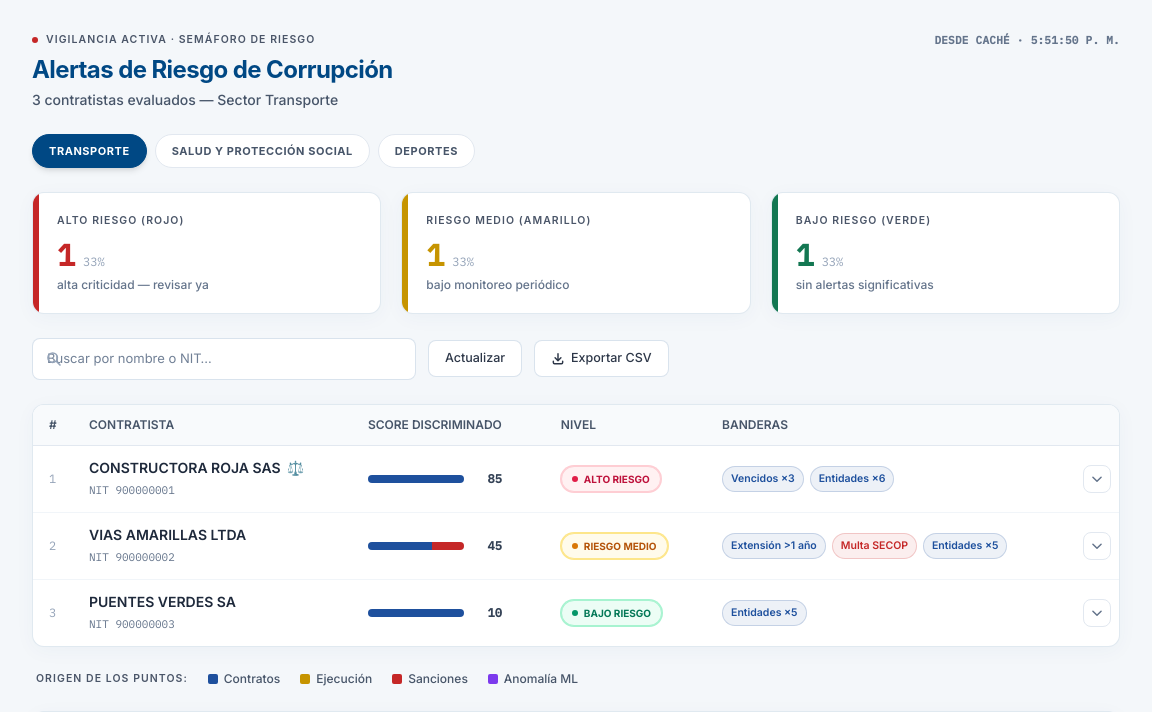
Test: AlertasPage: los scores de la API se muestran correctamente › expandir una fila muestra el score discriminado y el total coincide
Expected: the text "CONSTRUCTORA ROJA SAS" is shown, [89,458,281,478]
Click the button named "Ver desglose de puntos" in the row of "CONSTRUCTORA ROJA SAS" at (1097,478), box [1083,464,1111,492]
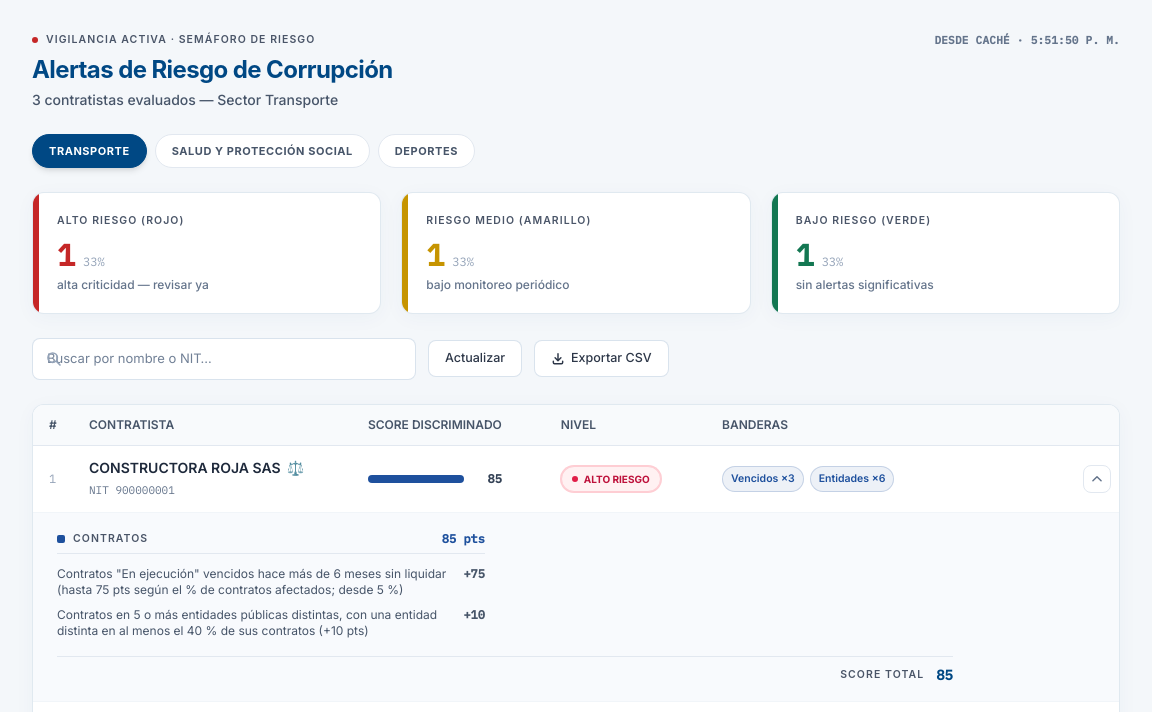
Now the text "Score total" is shown, box [840,664,924,684]
Now the text "85 pts" is shown, box [442,530,485,546]
Now the text "vencidos hace más de 6 meses sin liquidar" is shown, box [57,566,446,597]
